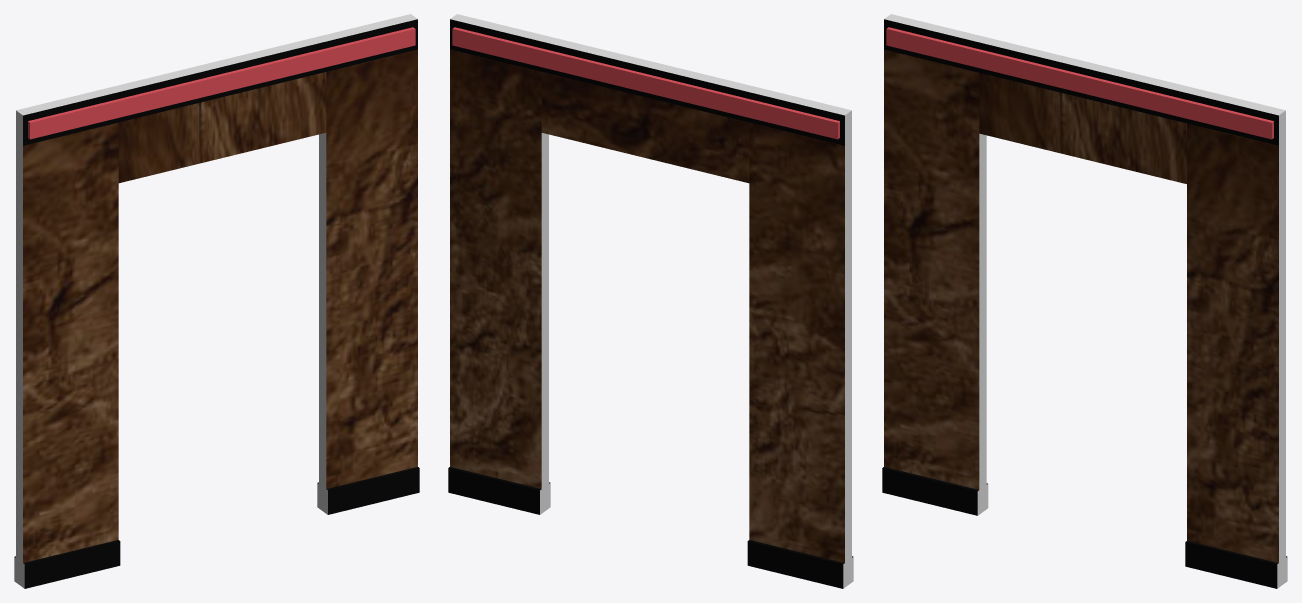
Rendered from door frame.glb.
3 renders of one model, left to right at view 1: azimuth 30°, elevation 25°; view 2: azimuth 150°, elevation 25°; view 3: azimuth 330°, elevation 25°, orthographic.
Visible parts, largest first — view 1: Cube.001; view 2: Cube.001; view 3: Cube.001.
Part boxes in pixels (<box>): Cube.001: <box>14,14,419,588</box>; Cube.001: <box>448,14,853,588</box>; Cube.001: <box>882,14,1287,588</box>.
Size of the model in its own units: 2.8 by 3.2 by 0.1429.
6 materials, 1 textured.
